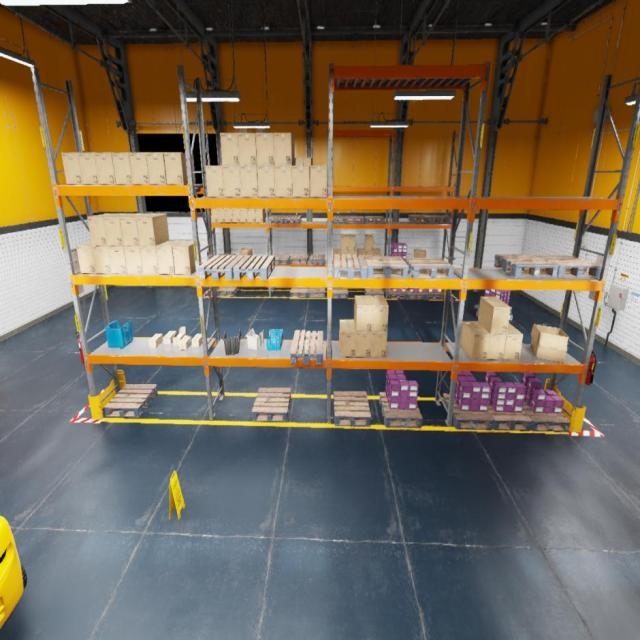box: (530, 324, 570, 364), (478, 296, 511, 334), (460, 321, 490, 359), (87, 214, 121, 246), (478, 322, 507, 359), (163, 153, 196, 185), (136, 214, 169, 246), (172, 240, 202, 274), (104, 214, 134, 246), (156, 240, 184, 274), (120, 214, 149, 246), (273, 132, 295, 166), (503, 323, 523, 360), (94, 153, 116, 185), (78, 153, 100, 185), (61, 153, 83, 185), (369, 296, 388, 332), (146, 153, 167, 185), (129, 153, 150, 185), (111, 153, 132, 185), (354, 296, 372, 332), (339, 319, 356, 357), (220, 133, 240, 165), (76, 241, 96, 273), (256, 132, 274, 166), (292, 165, 310, 198), (274, 165, 292, 197), (238, 133, 256, 165), (206, 165, 224, 197), (310, 165, 327, 198), (354, 326, 372, 357), (257, 166, 275, 197), (240, 166, 258, 197), (223, 166, 241, 197), (92, 246, 112, 273), (124, 246, 143, 274), (108, 246, 127, 274), (140, 246, 158, 274), (371, 332, 387, 358), (173, 327, 186, 345), (148, 334, 163, 347), (179, 336, 192, 350), (163, 331, 176, 344), (364, 236, 374, 250), (256, 209, 266, 223), (192, 334, 202, 346), (413, 249, 426, 258), (239, 248, 253, 256), (348, 236, 356, 250), (247, 209, 255, 223), (210, 209, 218, 223), (333, 248, 340, 263), (341, 236, 348, 250), (348, 250, 356, 262), (240, 210, 248, 222), (232, 210, 240, 222), (225, 210, 233, 222), (218, 210, 225, 222), (340, 250, 348, 260), (356, 249, 366, 256), (373, 248, 381, 256), (304, 157, 312, 165), (295, 157, 303, 165), (366, 251, 373, 255)
forklift: (0, 516, 27, 629)
pallets: (442, 394, 493, 429), (104, 384, 158, 417), (534, 255, 602, 278), (379, 393, 422, 428), (523, 400, 570, 432), (494, 255, 558, 278), (334, 391, 371, 427), (252, 388, 291, 422), (198, 254, 244, 280), (488, 404, 532, 431), (290, 330, 323, 364), (233, 255, 275, 280), (405, 258, 454, 279), (365, 256, 408, 278), (333, 254, 368, 279), (479, 300, 512, 315), (423, 289, 444, 299), (216, 287, 238, 296), (428, 215, 452, 223), (408, 214, 432, 222), (388, 289, 407, 299), (406, 289, 425, 299), (290, 287, 308, 297), (290, 254, 308, 264), (308, 288, 325, 298), (310, 254, 325, 265), (365, 216, 385, 224), (332, 288, 348, 298), (273, 255, 290, 264), (364, 288, 385, 295), (284, 216, 301, 224), (345, 216, 364, 223), (268, 216, 286, 223), (390, 255, 408, 261), (332, 216, 345, 223)
